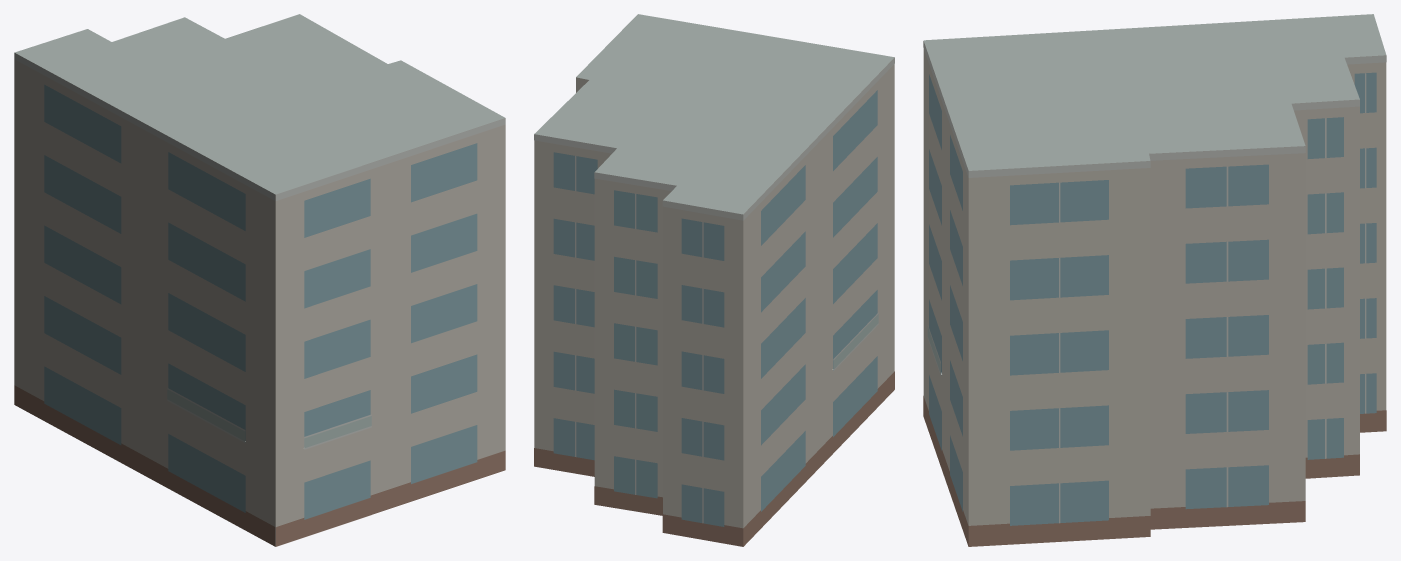
File: survey-upis-32705470.glb
3 views of the same model, side by side, from view 1: azimuth 30°, elevation 25°; view 2: azimuth 150°, elevation 25°; view 3: azimuth 270°, elevation 25° (orthographic). The views are drawn at different scales.
Parts seen in each view (by area): view 1: survey-upis-32705470.tmp; view 2: survey-upis-32705470.tmp; view 3: survey-upis-32705470.tmp.
Boxes of the visible parts, left/top/right/bottom form: survey-upis-32705470.tmp: left=14, top=14, right=505, bottom=546; survey-upis-32705470.tmp: left=534, top=14, right=894, bottom=546; survey-upis-32705470.tmp: left=923, top=14, right=1386, bottom=546.
Size of the model in its own units: 11.65 by 13 by 14.52.
